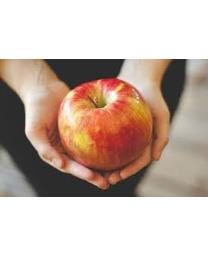apple: (56, 78, 152, 171)
